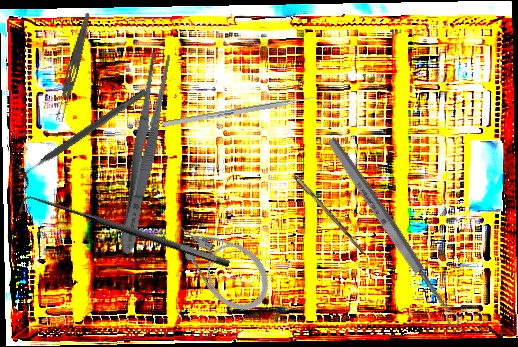Cannula: (165, 201, 282, 324)
Dressing Forceps: (112, 51, 175, 256), (53, 11, 93, 123)
Fixation Ring: (11, 81, 153, 191)
Hook Surgical: (17, 186, 232, 284)
Pusher: (161, 92, 329, 128)
Surgical Spoon: (324, 135, 463, 330), (267, 148, 368, 254)
